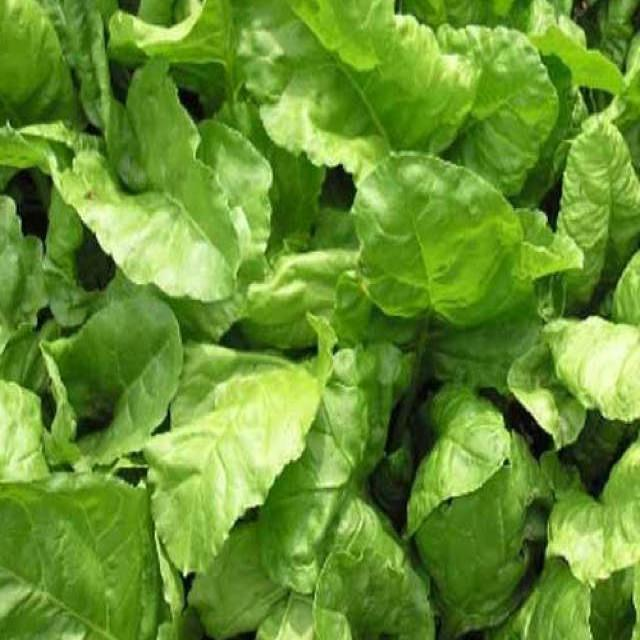spinach: (54, 62, 249, 301), (238, 0, 476, 178), (258, 345, 409, 593), (145, 363, 321, 572), (352, 153, 532, 327)
